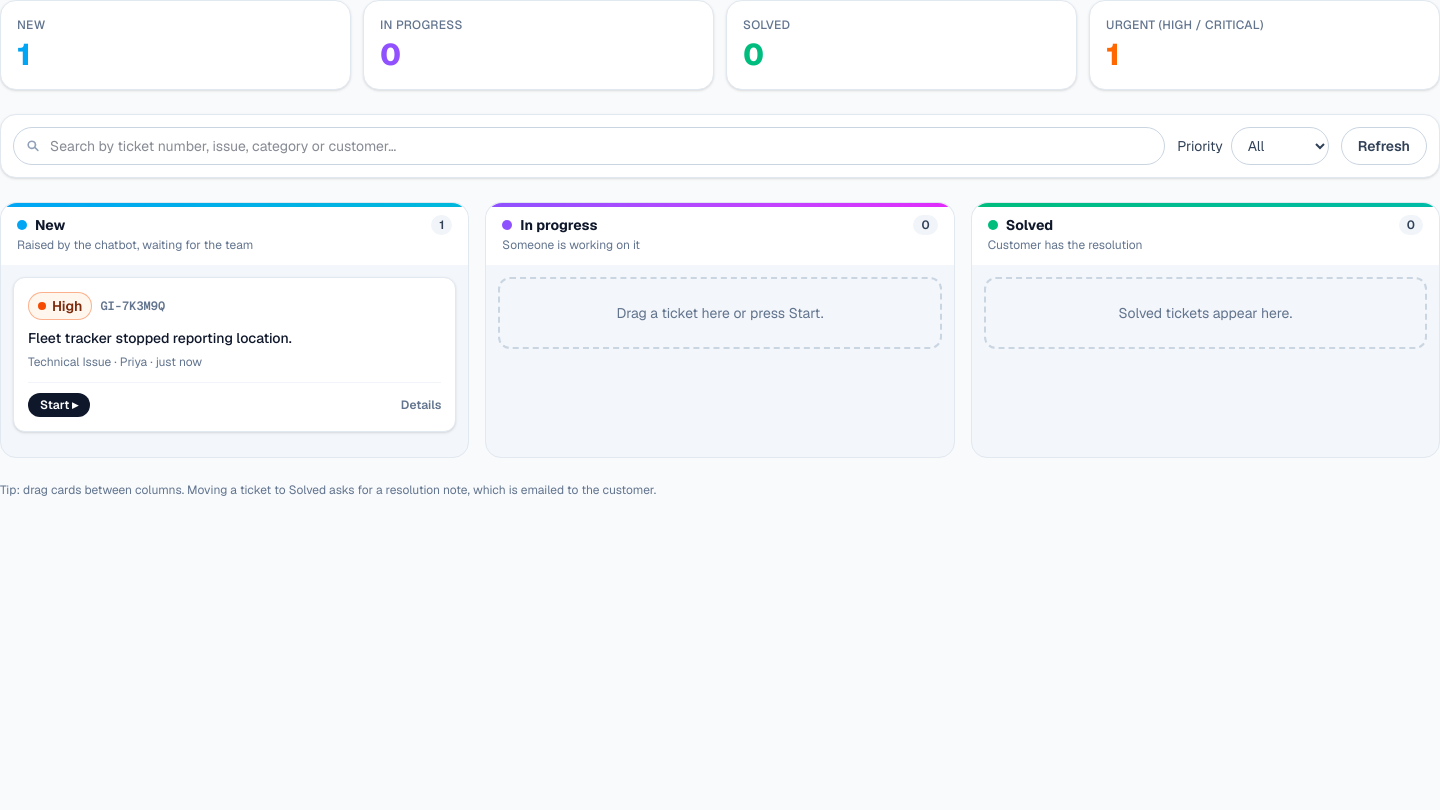
TicketsBoard › fills the note from the AI suggested reply
Click the text "Fleet tracker stopped reporting location.": (160, 338) [28, 329, 292, 347]
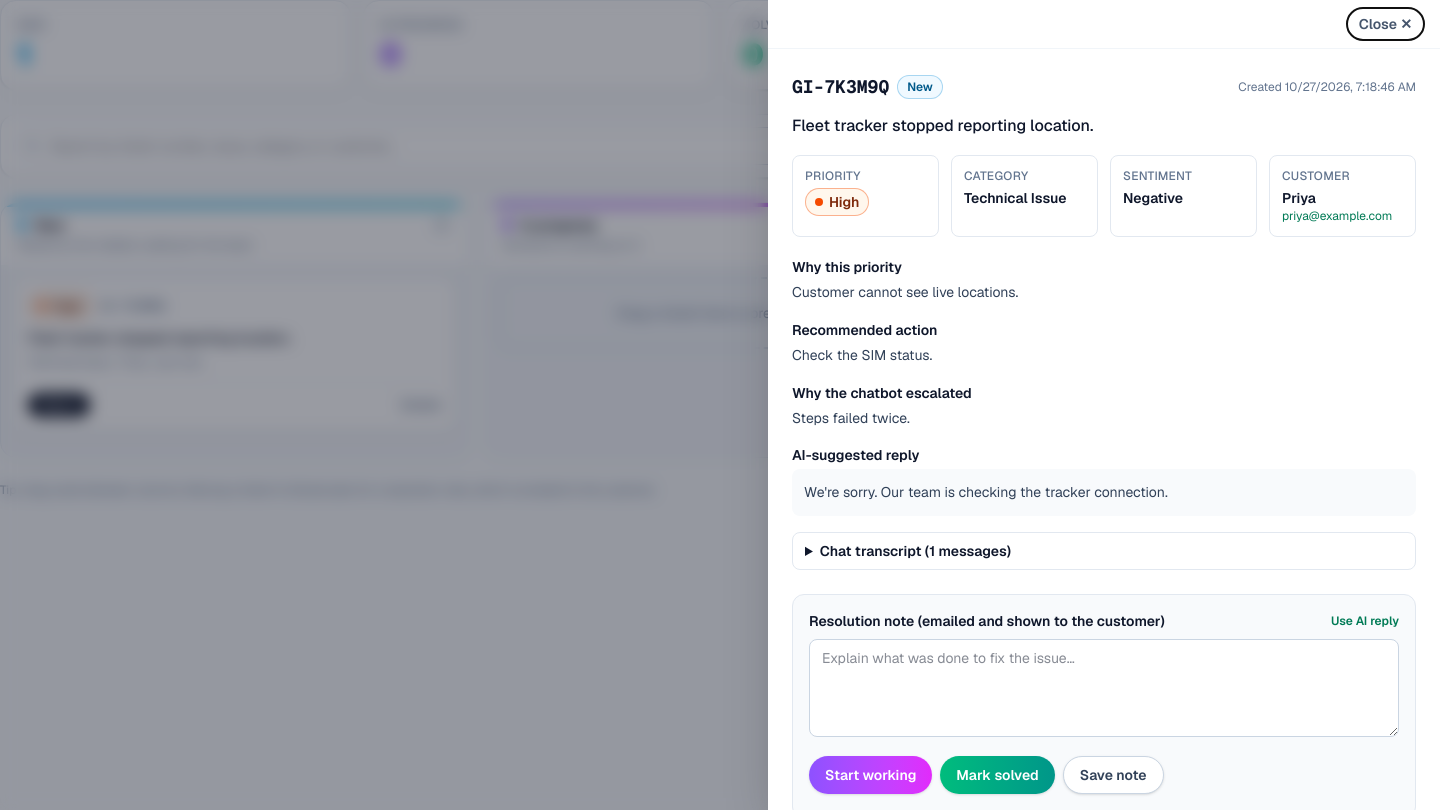
Click the button "Use AI reply": (1365, 621) [1331, 613, 1399, 629]
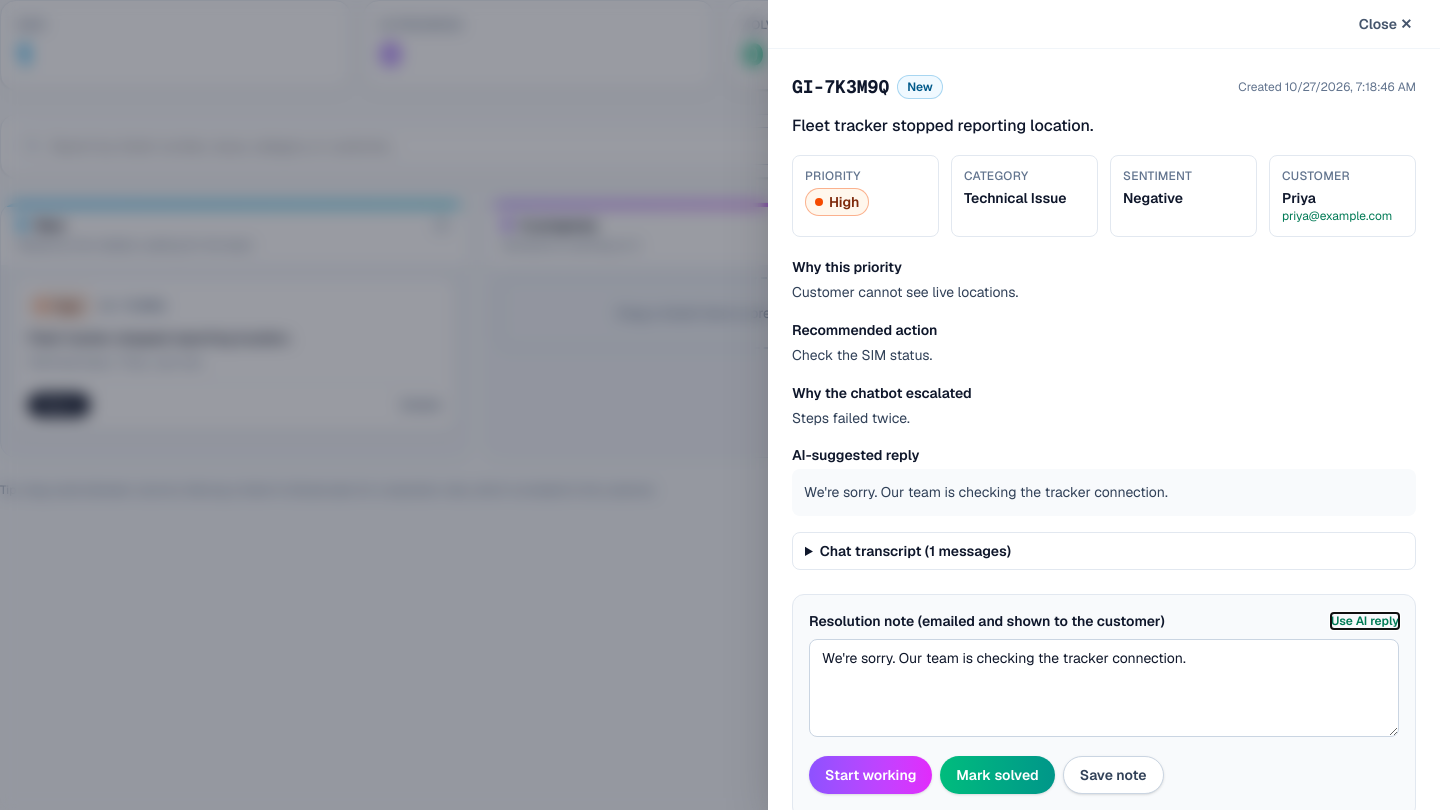
Expected: the text box labelled "Resolution note (emailed and shown to the customer)" holds "We're sorry. Our team is checking the tracker connection.", [809, 639, 1399, 737]
